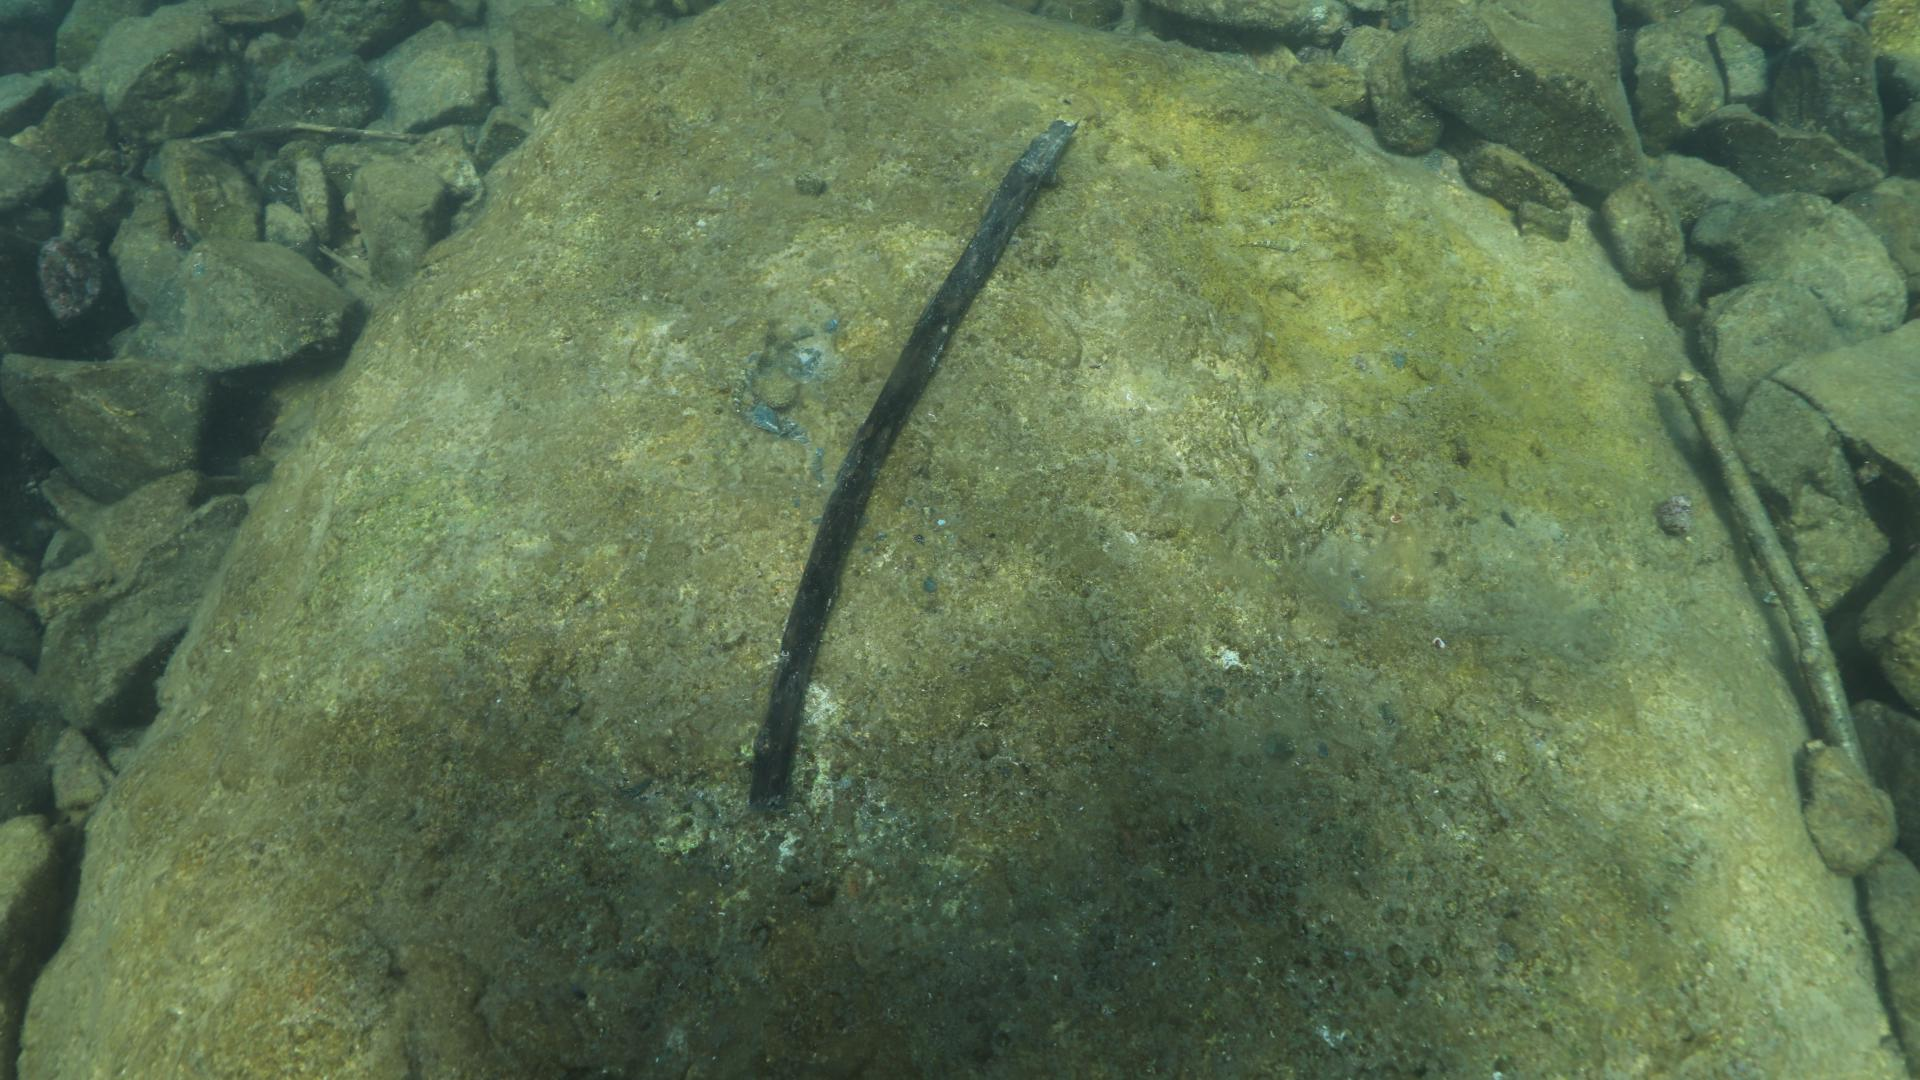wood: (746, 109, 1079, 808), (1669, 367, 1873, 781)
